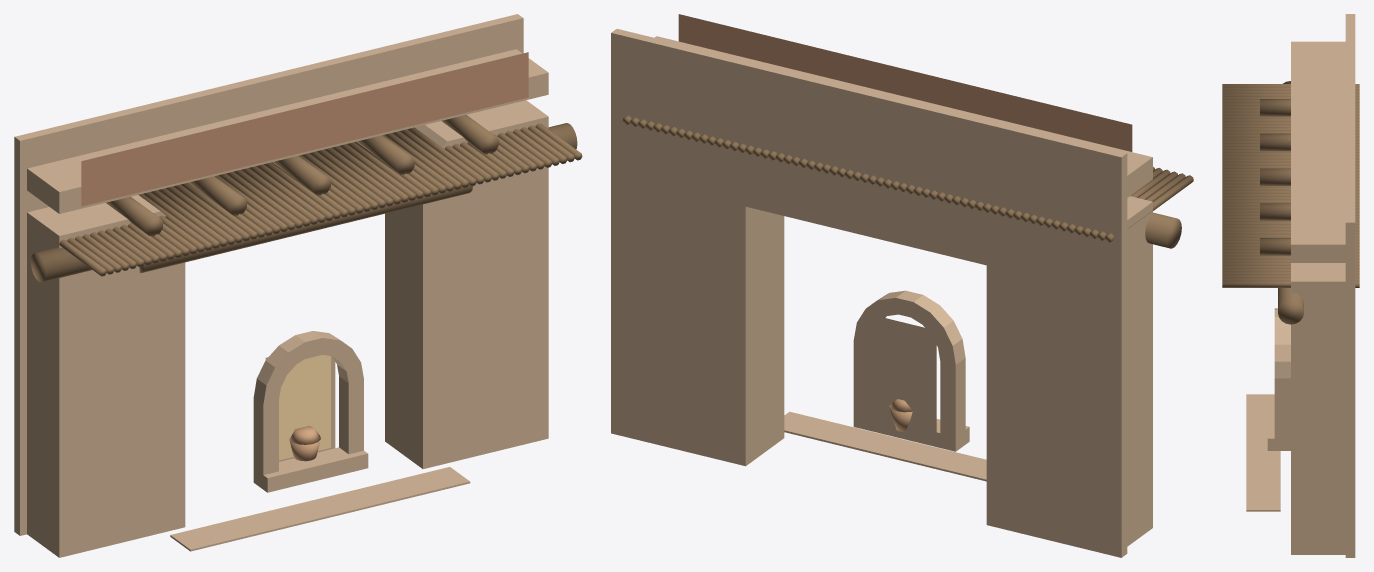
The model's file is adobe.glb.
3 renders of one model, left to right at view 1: azimuth 30°, elevation 25°; view 2: azimuth 150°, elevation 25°; view 3: azimuth 270°, elevation 25°, orthographic. The views are drawn at different scales.
Visible parts, largest first — view 1: Adobe_jambL, Adobe_jambR, Wood_latilla, Paint_band, Adobe_backL, Adobe_backHdr, Adobe_parapet, Adobe_step, Adobe_backR, Glow_nicheback, Adobe_nichearch, Adobe_nichesill (+9 smaller); view 2: Adobe_backL, Adobe_backR, Adobe_backHdr, Paint_band, Adobe_jambL, Adobe_jambR, Adobe_nicheback, Wood_latilla, Adobe_step, Adobe_nichearch, Adobe_parapet, Adobe_nicheL (+3 smaller); view 3: Adobe_jambR, Wood_latilla, Adobe_parapet, Adobe_backR, Adobe_step, Adobe_nicheR, Adobe_backHdr, Adobe_nichearch, Wood_viga, Adobe_backL, Wood_vigaend.001, Adobe_nichesill (+4 smaller).
Boxes of the visible parts, x1,y1,x2,y2 form: Adobe_jambL: [27, 195, 185, 557]; Adobe_jambR: [390, 100, 548, 468]; Wood_latilla: [27, 123, 582, 276]; Paint_band: [81, 52, 528, 206]; Adobe_backL: [14, 104, 152, 535]; Adobe_backHdr: [147, 46, 390, 137]; Adobe_parapet: [27, 49, 548, 213]; Adobe_step: [170, 467, 470, 551]; Adobe_backR: [385, 14, 523, 445]; Glow_nicheback: [279, 355, 330, 460]; Adobe_nichearch: [254, 331, 363, 404]; Adobe_nichesill: [253, 447, 368, 492]; Adobe_backL: [986, 120, 1127, 557]; Adobe_backR: [611, 29, 751, 466]; Adobe_backHdr: [745, 61, 991, 265]; Paint_band: [678, 14, 1132, 151]; Adobe_jambL: [1127, 196, 1152, 546]; Adobe_jambR: [751, 208, 784, 461]; Adobe_nicheback: [865, 313, 936, 445]; Wood_latilla: [622, 115, 1193, 242]; Adobe_step: [784, 411, 986, 481]; Adobe_nichearch: [854, 290, 965, 364]; Adobe_parapet: [654, 36, 1152, 197]; Adobe_nicheL: [940, 358, 965, 442]; Adobe_jambR: [1291, 263, 1345, 554]; Wood_latilla: [1222, 84, 1359, 287]; Adobe_parapet: [1291, 41, 1345, 262]; Adobe_backR: [1345, 167, 1355, 557]; Adobe_step: [1246, 394, 1280, 511]; Adobe_nicheR: [1274, 378, 1290, 443]; Adobe_backHdr: [1345, 69, 1355, 167]; Adobe_nichearch: [1274, 308, 1290, 378]; Wood_viga: [1278, 81, 1303, 324]; Adobe_backL: [1345, 14, 1355, 68]; Wood_vigaend.001: [1260, 133, 1290, 151]; Adobe_nichesill: [1267, 397, 1290, 450].
Size of the model in its own units: 7.6 by 5.4 by 2.
